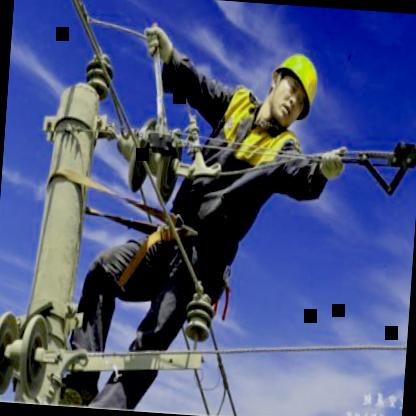helmet: (262, 44, 328, 135)
